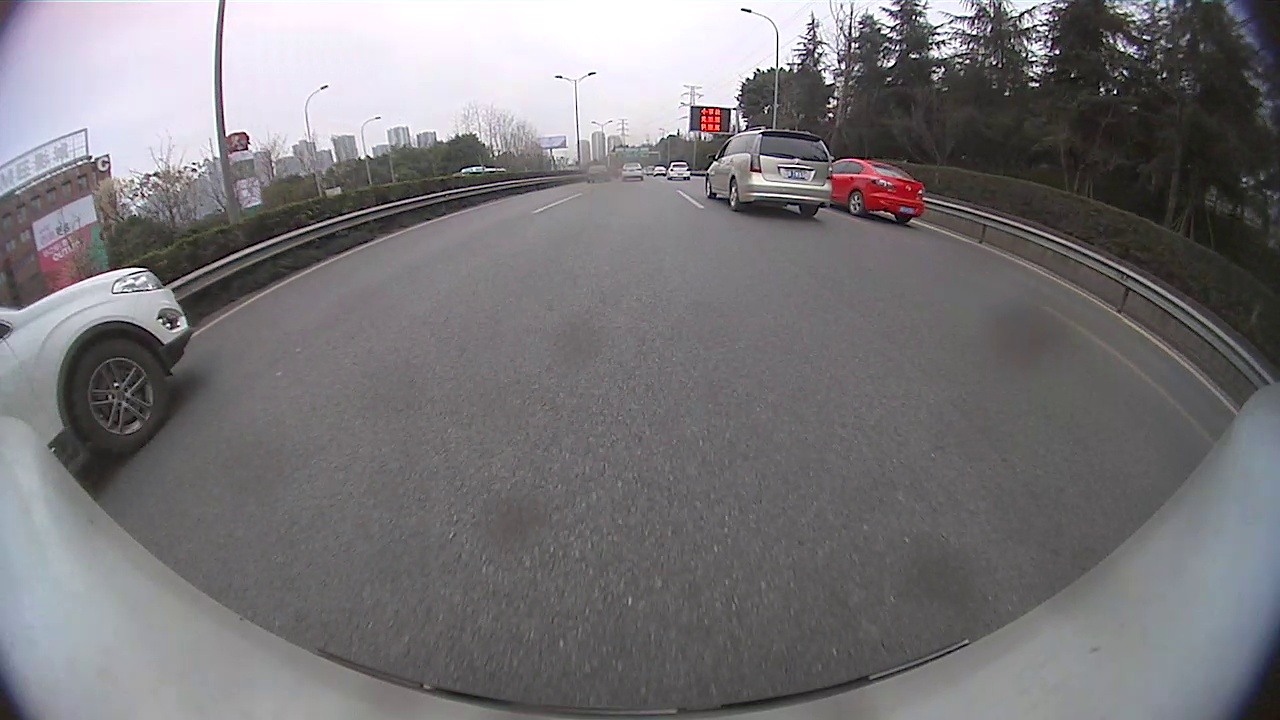car: (3, 265, 193, 459), (704, 126, 834, 218), (832, 159, 927, 227), (666, 161, 690, 180), (621, 162, 645, 181), (586, 166, 611, 183)
front: (69, 336, 172, 455)
rear: (727, 183, 741, 212), (848, 190, 863, 216)
